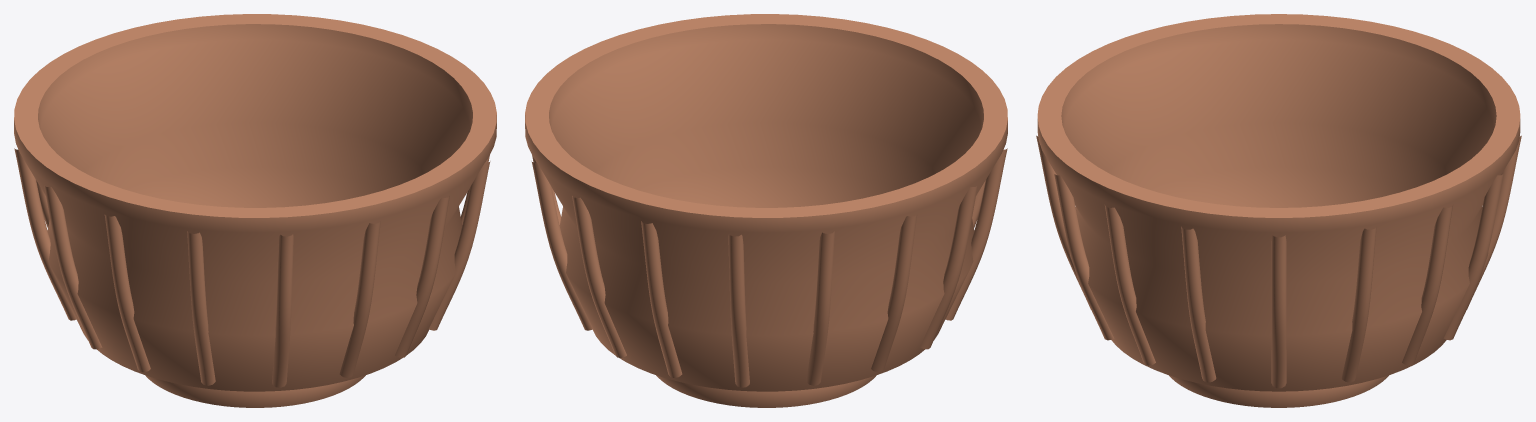
File: ceramics-pottery-studio-fluted-planter-7b898179__29518.glb
3 views of the same model, side by side, from view 1: azimuth 30°, elevation 25°; view 2: azimuth 150°, elevation 25°; view 3: azimuth 270°, elevation 25° (orthographic).
Visible parts, largest first — view 1: fluted-planter; view 2: fluted-planter; view 3: fluted-planter.
Boxes of the visible parts, left/top/right/bottom form: fluted-planter: left=14, top=14, right=496, bottom=407; fluted-planter: left=525, top=14, right=1007, bottom=407; fluted-planter: left=1036, top=14, right=1521, bottom=407.
Size of the model in its own units: 0.5089 by 0.28 by 0.5089.
